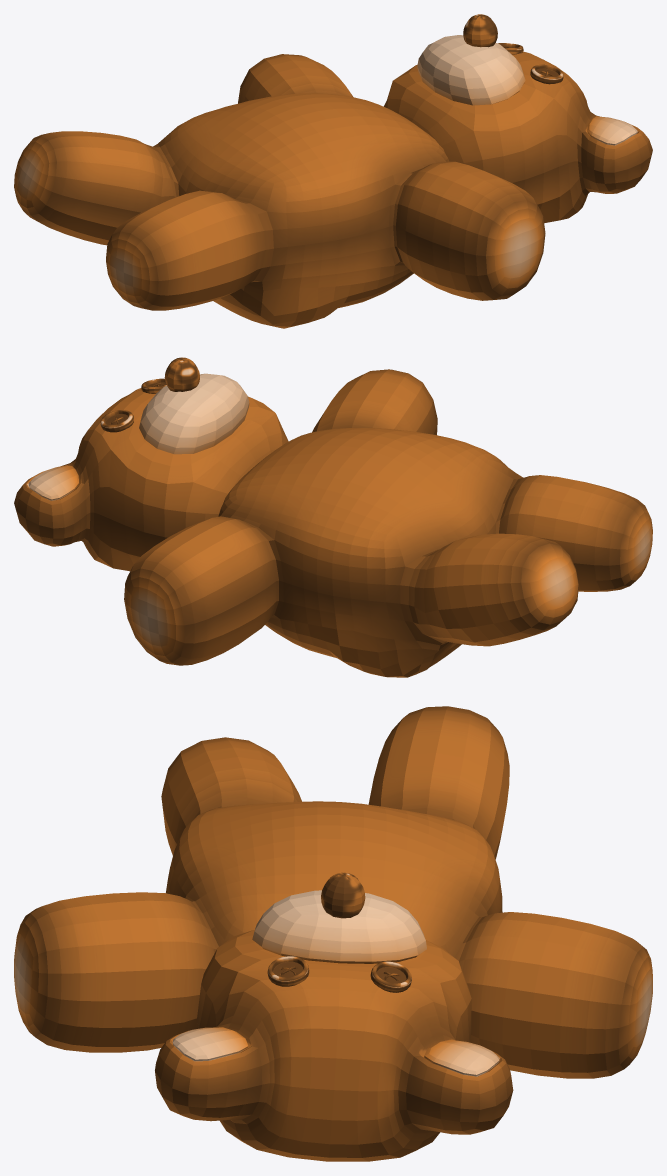
The model's file is smalltoy.fbx.
3 views of the same model, one above another, from view 1: azimuth 30°, elevation 25°; view 2: azimuth 150°, elevation 25°; view 3: azimuth 270°, elevation 25° (orthographic). The views are drawn at different scales.
Parts seen in each view (by area): view 1: polySurface197; view 2: polySurface197; view 3: polySurface197.
Part boxes in pixels (x1,y1,x2,y2): polySurface197: (14,14,652,328); polySurface197: (14,357,652,677); polySurface197: (14,706,652,1161).
Bounding box in the file's own units: 11.26 × 4.66 × 9.21.
